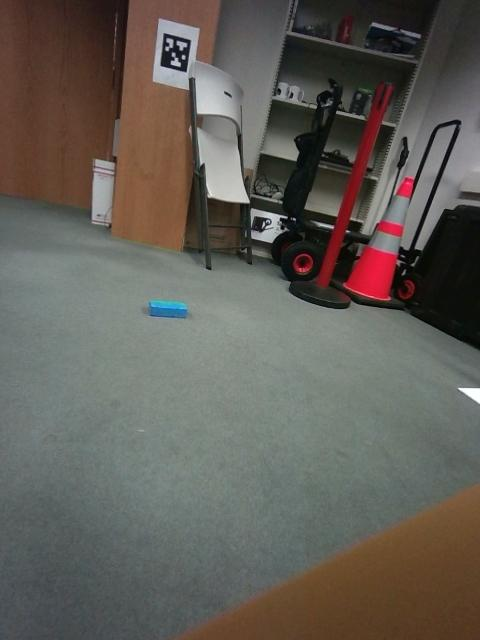block: (96, 294, 133, 355)
